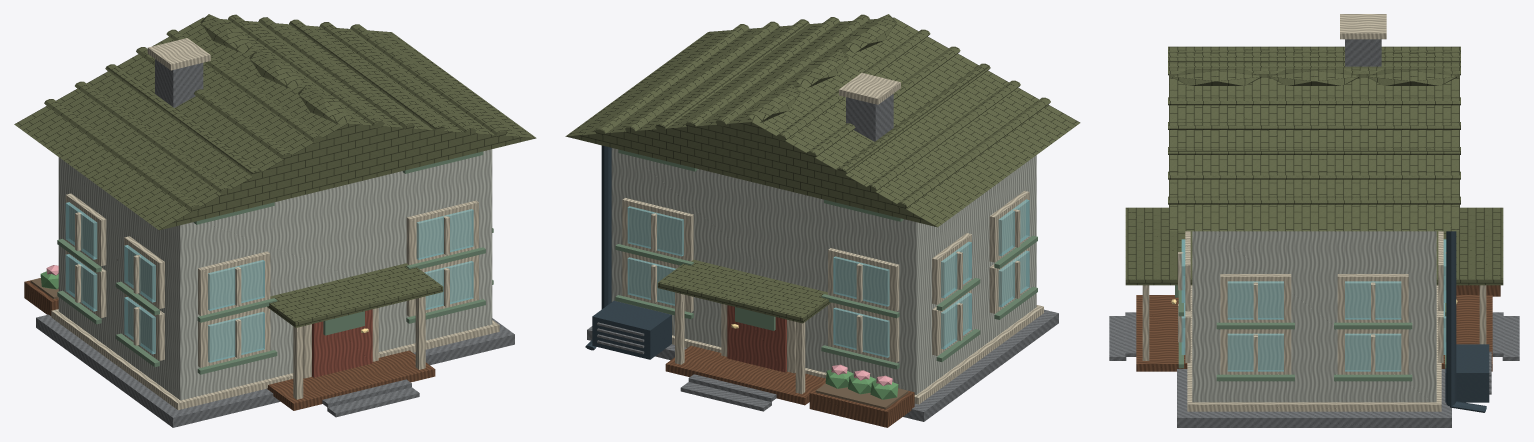
File: house_lv4_b.glb
3 renders of one model, left to right at view 1: azimuth 30°, elevation 25°; view 2: azimuth 150°, elevation 25°; view 3: azimuth 270°, elevation 25°, orthographic.
Visible parts, largest first — view 1: gable_roof, walls, foundation, front_porch_canopy, front_deck, floor_trim, front_window_frame.003, front_window_frame.002, front_window_frame, front_door, front_window_frame.001, front_window_glass.003 (+37 smaller); view 2: gable_roof, walls, back_porch_canopy, back_deck, foundation, back_ac_unit, back_window_frame.003, back_window_frame.002, back_window_frame, back_door, back_garden_bed, back_window_frame.001 (+40 smaller); view 3: gable_roof, walls, foundation, front_porch_canopy, back_porch_canopy, floor_trim, right_window_frame.002, right_window_frame.003, right_window_frame, right_window_frame.001, front_deck, thatch_course.005 (+34 smaller).
Part boxes in pixels (bbox=[...]): gable_roof: bbox=[14, 17, 536, 230]; walls: bbox=[58, 149, 492, 400]; foundation: bbox=[36, 314, 514, 427]; front_porch_canopy: bbox=[267, 263, 443, 327]; front_deck: bbox=[267, 350, 435, 410]; floor_trim: bbox=[51, 309, 499, 410]; front_window_frame.003: bbox=[406, 200, 478, 264]; front_window_frame.002: bbox=[198, 251, 270, 315]; front_window_frame: bbox=[198, 306, 270, 367]; front_door: bbox=[312, 309, 372, 377]; front_window_frame.001: bbox=[406, 255, 478, 316]; front_window_glass.003: bbox=[416, 209, 473, 259]; gable_roof: bbox=[565, 17, 1080, 227]; walls: bbox=[611, 148, 1036, 394]; back_porch_canopy: bbox=[657, 259, 831, 323]; back_deck: bbox=[665, 345, 825, 405]; foundation: bbox=[587, 309, 1058, 421]; back_ac_unit: bbox=[592, 301, 671, 359]; back_window_frame.003: bbox=[622, 198, 693, 261]; back_window_frame.002: bbox=[828, 248, 899, 311]; back_window_frame: bbox=[828, 302, 899, 362]; back_door: bbox=[727, 305, 786, 372]; back_garden_bed: bbox=[809, 381, 914, 427]; back_window_frame.001: bbox=[622, 251, 693, 312]; gable_roof: bbox=[1169, 74, 1459, 231]; walls: bbox=[1192, 231, 1436, 402]; foundation: bbox=[1177, 369, 1451, 427]; front_porch_canopy: bbox=[1125, 207, 1192, 285]; back_porch_canopy: bbox=[1436, 207, 1503, 285]; floor_trim: bbox=[1187, 285, 1441, 411]; right_window_frame.002: bbox=[1220, 274, 1291, 322]; right_window_frame.003: bbox=[1337, 274, 1408, 322]; right_window_frame: bbox=[1220, 329, 1291, 374]; right_window_frame.001: bbox=[1337, 329, 1408, 374]; front_deck: bbox=[1136, 295, 1187, 371]; thatch_course.005: bbox=[1168, 97, 1460, 105].
Bounding box in the file's own units: 6.6 × 4.75 × 6.19.
13 materials, 7 textured.
